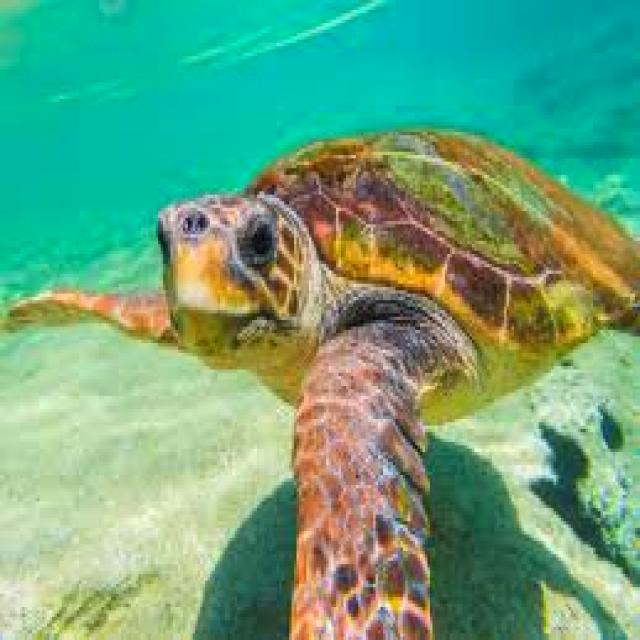turtle: (7, 129, 638, 637)
